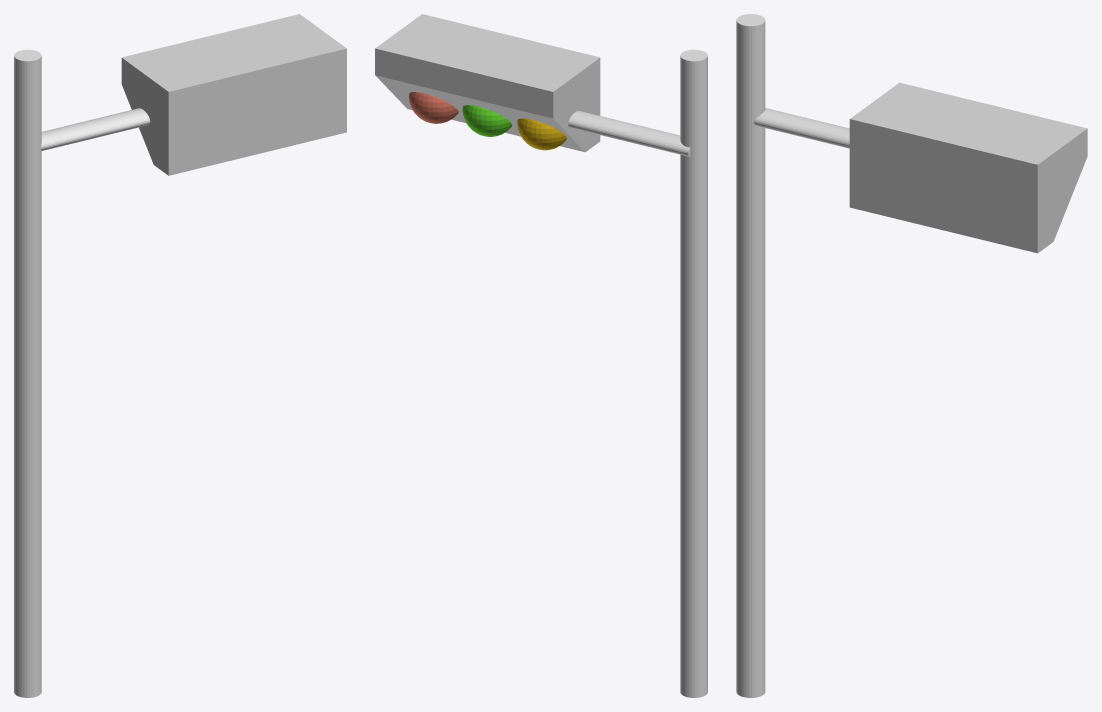
Rendered from shingoukifbx.fbx.
The picture shows the model from 3 angles, left to right: view 1: azimuth 30°, elevation 25°; view 2: azimuth 150°, elevation 25°; view 3: azimuth 330°, elevation 25°; orthographic projection. The views are drawn at different scales.
Parts seen in each view (by area): view 1: 立方体, 円柱, 円柱.001; view 2: 円柱, 立方体, 円柱.001, 球.002, 球.001, 球; view 3: 立方体, 円柱, 円柱.001.
Boxes of the visible parts, x1,y1,x2,y2 form: 立方体: (121, 14, 346, 175); 円柱: (14, 49, 41, 697); 円柱.001: (41, 108, 150, 150); 円柱: (680, 49, 707, 697); 立方体: (375, 14, 600, 152); 円柱.001: (568, 111, 690, 156); 球.002: (517, 118, 566, 150); 球.001: (462, 105, 511, 136); 球: (409, 92, 458, 123); 立方体: (849, 82, 1087, 253); 円柱: (736, 14, 765, 697); 円柱.001: (754, 108, 849, 148).
Size of the model in its own units: 345 by 683 by 91.66.
